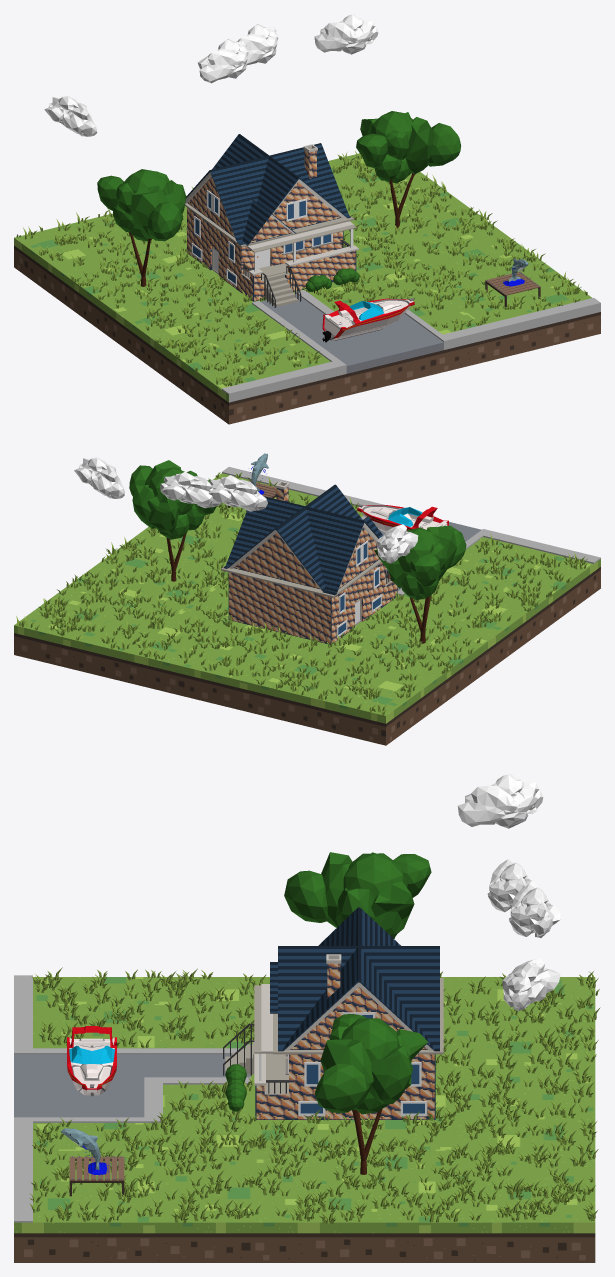
The picture shows the model from 3 angles, top to bottom: view 1: azimuth 30°, elevation 25°; view 2: azimuth 150°, elevation 25°; view 3: azimuth 270°, elevation 25°; orthographic projection. The views are drawn at different scales.
Visible parts, largest first — view 1: Cube.006, Cube.430, Circle.012_Grass_0.192, Cube.007, tree, tree.001, VEHICLES_BOAT, Cube.009; view 2: Cube.006, Cube.430, Circle.012_Grass_0.192, Cube.007, tree.001, tree, VEHICLES_BOAT; view 3: Cube.006, Circle.012_Grass_0.192, Cube.430, tree, Cube.007, tree.001, VEHICLES_BOAT, Cube.009, ANIMAL_DELFIN.
Boxes of the visible parts, x1,y1,x2,y2 form: Cube.006: (14, 153, 600, 424); Cube.430: (185, 134, 358, 307); Circle.012_Grass_0.192: (16, 151, 587, 386); Cube.007: (44, 14, 378, 136); tree: (356, 111, 460, 228); tree.001: (97, 169, 186, 286); VEHICLES_BOAT: (322, 298, 414, 342); Cube.009: (485, 272, 540, 306); Cube.006: (14, 467, 600, 745); Cube.430: (221, 481, 397, 644); Circle.012_Grass_0.192: (16, 472, 587, 715); Cube.007: (74, 457, 418, 563); tree.001: (374, 525, 466, 643); tree: (129, 460, 216, 581); VEHICLES_BOAT: (357, 504, 448, 531); Cube.006: (14, 975, 595, 1262); Circle.012_Grass_0.192: (29, 967, 600, 1223); Cube.430: (223, 907, 443, 1119); tree: (314, 1014, 428, 1174); Cube.007: (457, 774, 560, 1011); tree.001: (284, 852, 431, 938); VEHICLES_BOAT: (67, 1026, 116, 1096); Cube.009: (69, 1156, 124, 1196); ANIMAL_DELFIN: (61, 1128, 108, 1175).
Size of the model in its own units: 4071 by 2198 by 4040.
Materials: 30 (5 with a texture image).
